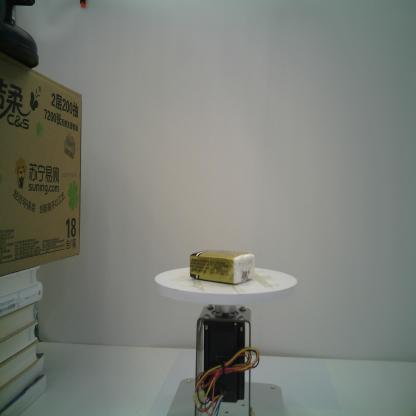Tissue: (189, 249, 255, 285)
